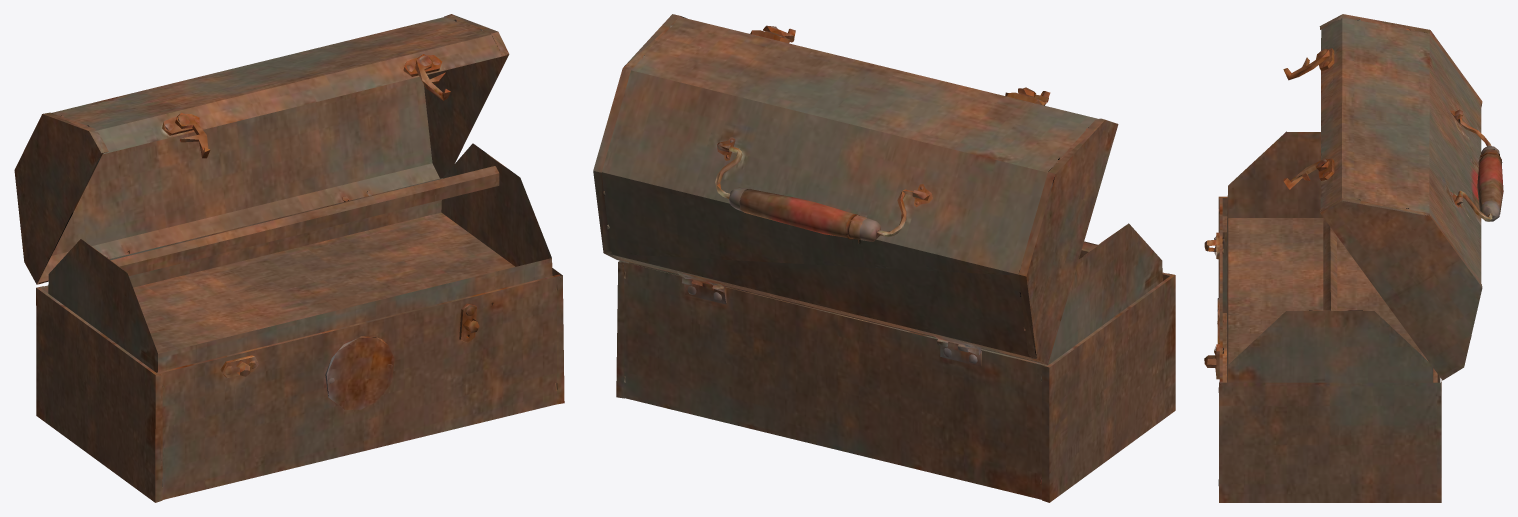
Rendered from metal_toolbox.glb.
The picture shows the model from 3 angles, left to right: view 1: azimuth 30°, elevation 25°; view 2: azimuth 150°, elevation 25°; view 3: azimuth 270°, elevation 25°; orthographic projection. The views are drawn at different scales.
Parts seen in each view (by area): view 1: metal_toolbox; view 2: metal_toolbox; view 3: metal_toolbox.
Boxes of the visible parts, x1=… form: metal_toolbox: x1=14, y1=14, x2=564, y2=502; metal_toolbox: x1=593, y1=14, x2=1175, y2=502; metal_toolbox: x1=1204, y1=14, x2=1503, y2=502.
Size of what is drawn, in the model's own units: 0.4 by 0.3051 by 0.2709.
Materials: 1 (1 with a texture image).
